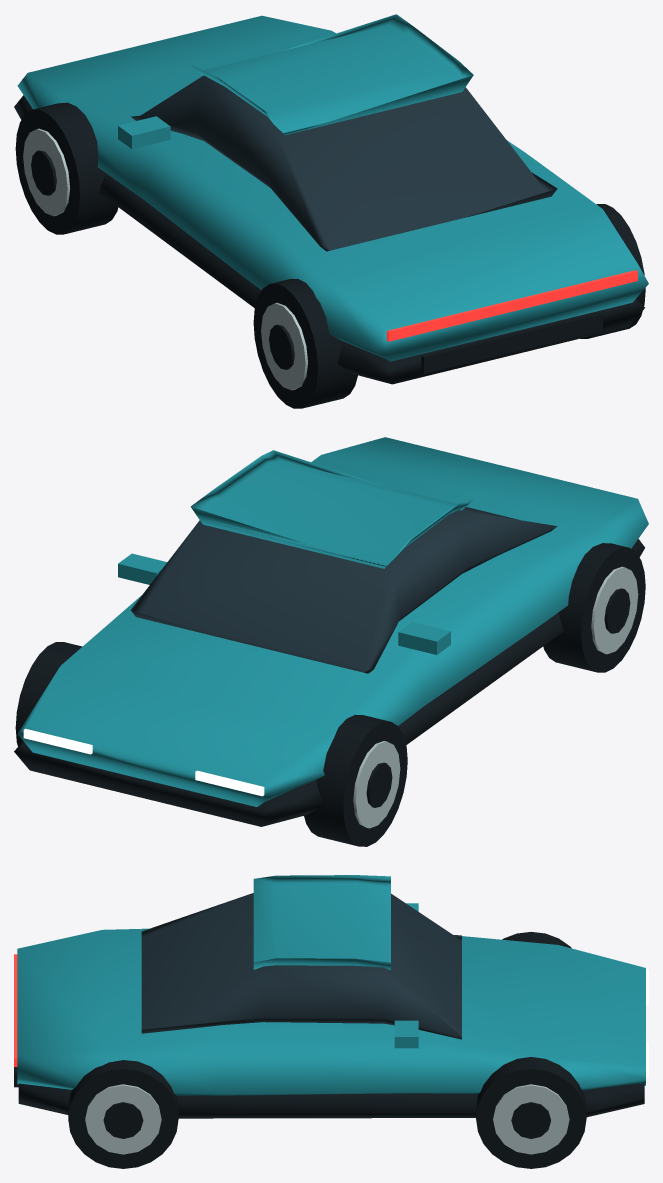
File: aster.glb
The picture shows the model from 3 angles, top to bottom: view 1: azimuth 30°, elevation 25°; view 2: azimuth 150°, elevation 25°; view 3: azimuth 270°, elevation 25°; orthographic projection. The views are drawn at different scales.
Visible parts, largest first — view 1: Coachwork, Glazing, Roof, Tire (×3), Undertray, Wheel face (×2), Rear diffuser, Rear light bar, Wheel hub (×2), Mirror; view 2: Coachwork, Glazing, Roof, Tire (×3), Undertray, Wheel face (×2), Mirror (×2), Wheel hub (×2), Headlamp (×2); view 3: Coachwork, Glazing, Roof, Tire (×3), Undertray, Wheel face (×2), Wheel hub (×2), Mirror, Rear light bar.
Boxes of the visible parts, x1,y1,x2,y2 form: Coachwork: (17, 15, 648, 361); Glazing: (131, 75, 557, 251); Roof: (191, 14, 473, 135); Tire (×3): (15, 102, 645, 408); Undertray: (14, 95, 644, 384); Wheel face (×2): (23, 128, 307, 390); Rear diffuser: (421, 312, 602, 373); Rear light bar: (387, 270, 637, 341); Wheel hub (×2): (31, 150, 294, 369); Mirror: (118, 116, 170, 149); Coachwork: (17, 437, 648, 806); Glazing: (130, 507, 557, 673); Roof: (190, 450, 473, 568); Tire (×3): (15, 543, 645, 846); Undertray: (14, 539, 644, 826); Wheel face (×2): (353, 566, 638, 828); Mirror (×2): (118, 553, 450, 654); Wheel hub (×2): (366, 588, 630, 807); Headlamp (×2): (23, 728, 264, 796); Coachwork: (17, 928, 645, 1095); Glazing: (141, 893, 461, 1039); Roof: (253, 875, 390, 970); Tire (×3): (68, 931, 586, 1168); Undertray: (18, 1083, 644, 1118); Wheel face (×2): (85, 1084, 569, 1154); Wheel hub (×2): (103, 1102, 550, 1138); Mirror: (394, 1020, 418, 1048); Rear light bar: (14, 954, 17, 1066).
Bounding box in the file's own units: 2.36 × 1.43 × 4.48.
